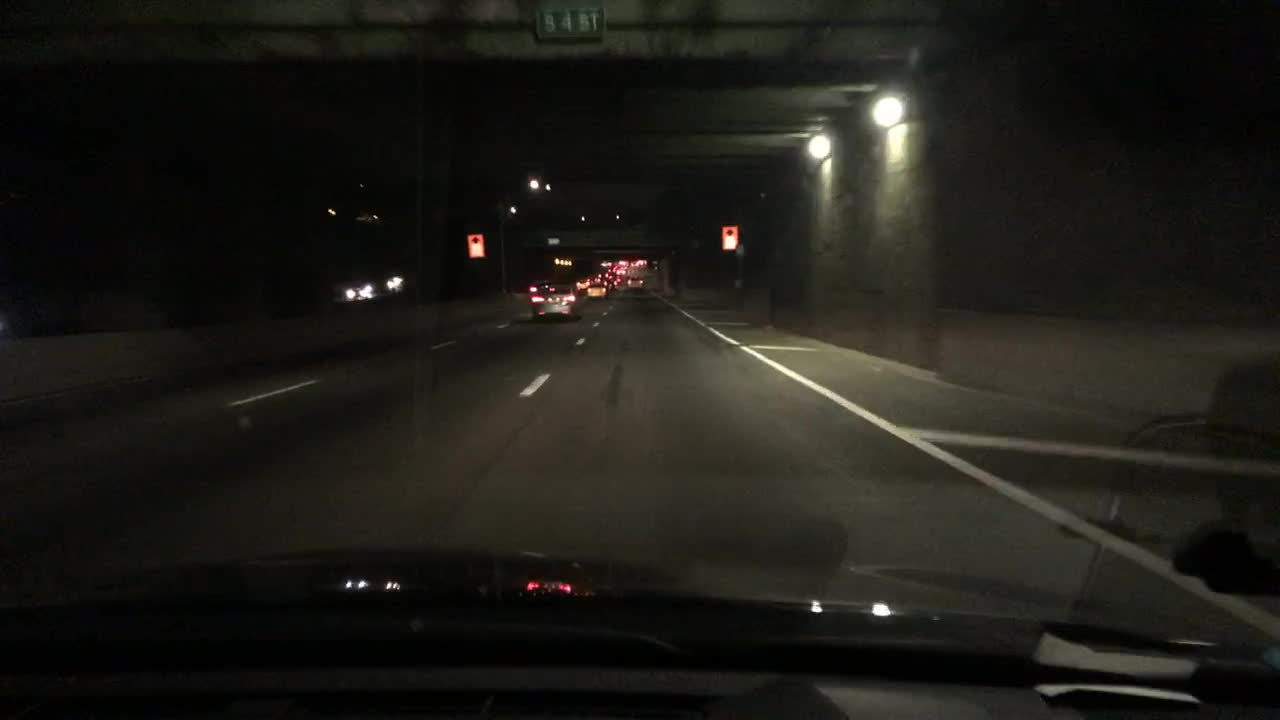car: (527, 284, 581, 323), (587, 280, 612, 299), (341, 284, 368, 299), (625, 272, 646, 290), (575, 277, 591, 292), (599, 276, 616, 290), (604, 272, 620, 282), (610, 266, 623, 276), (615, 259, 628, 268)
traffic sign: (536, 10, 603, 37), (465, 234, 485, 257), (720, 225, 736, 250), (546, 235, 559, 245)
